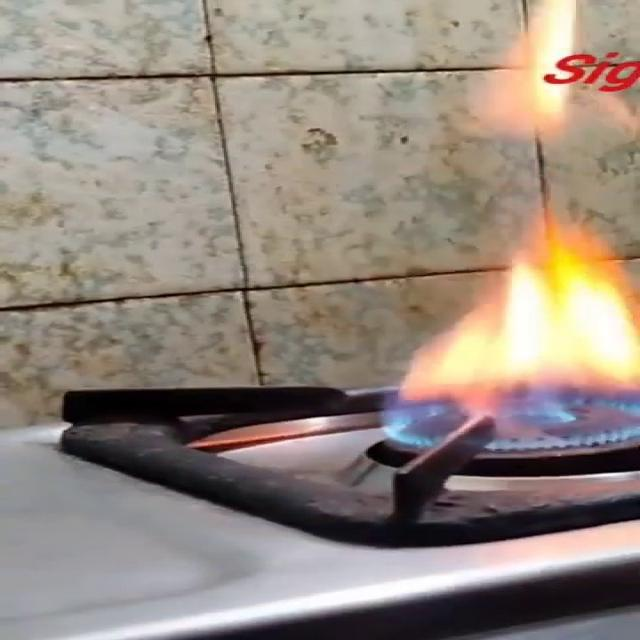fire: (358, 2, 628, 468)
